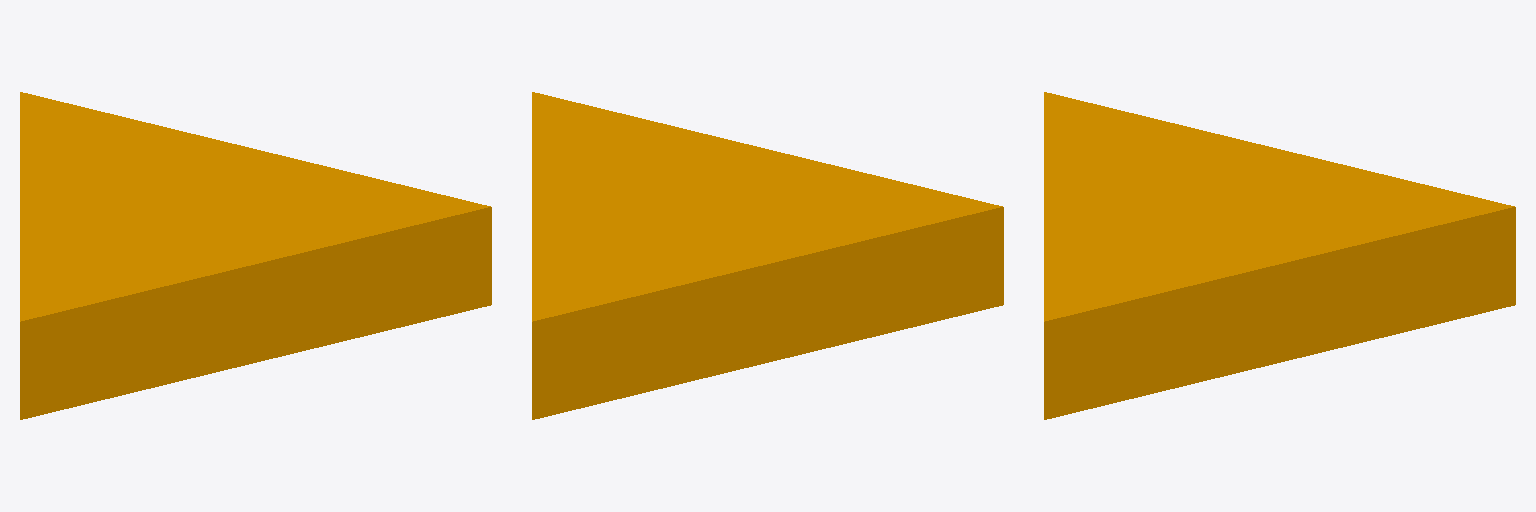
The robot description file, URDF, robot "triangle_prism_fixed":
<?xml version="1.0"?>
<robot name="triangle_prism_fixed">
  <link name="base">
    <visual>
      <geometry>
        <mesh filename="triangle_prism_fixed.obj" scale="5 5 1"/>
      </geometry>
    </visual>
    <collision>
      <geometry>
        <mesh filename="triangle_prism_fixed.obj" scale="5 5 1"/>
      </geometry>
    </collision>
    <inertial>
      <mass value="1.0"/>
      <inertia ixx="0.001" ixy="0.0" ixz="0.0"
               iyy="0.001" iyz="0.0"
               izz="0.001"/>
    </inertial>
  </link>
</robot>

--- Render facts (derived) ---
3 views of the same robot in one strip: view 1: azimuth 30°, elevation 25°; view 2: azimuth 150°, elevation 25°; view 3: azimuth 270°, elevation 25° (orthographic).
Robot: triangle_prism_fixed — 1 links, 0 joints (none); root link base; default pose: all joints at 0.
Visible links, largest first — view 1: base; view 2: base; view 3: base.
Boxes of the visible links, x1=… form: base: x1=20, y1=92, x2=491, y2=419; base: x1=532, y1=92, x2=1003, y2=419; base: x1=1044, y1=92, x2=1515, y2=419.
Bounding box of the posed robot: 0.1 × 0.0866 × 0.02 m (x, y, z).
Meshes: 1 distinct files referenced, 1 mesh visuals loaded (1 OBJ).
